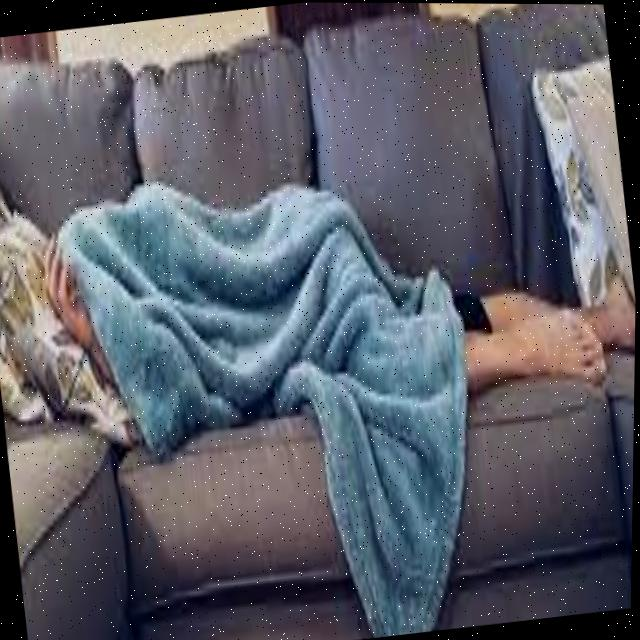sleeping-person: (24, 116, 639, 573)
